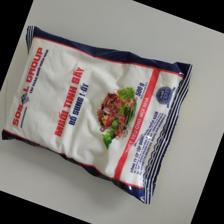Salt: (1, 25, 194, 203)
